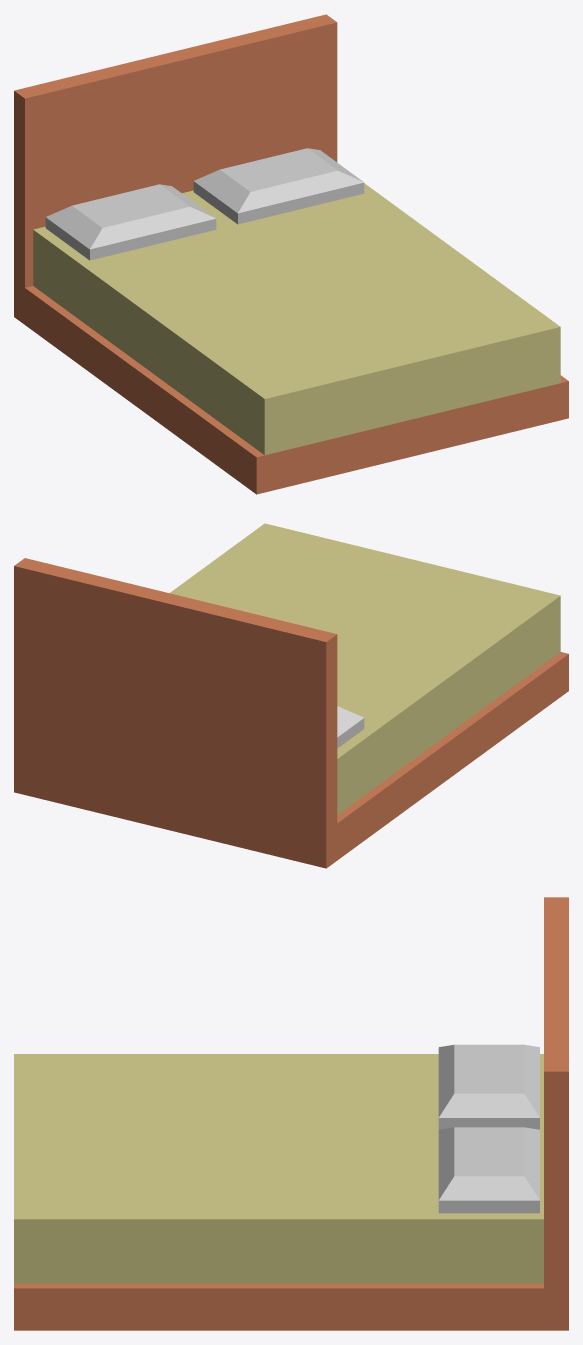
File: Bed2.fbx
3 views of the same model, one above another, from view 1: azimuth 30°, elevation 25°; view 2: azimuth 150°, elevation 25°; view 3: azimuth 270°, elevation 25° (orthographic). The views are drawn at different scales.
Visible parts, largest first — view 1: Cube; view 2: Cube; view 3: Cube.
Part boxes in pixels (x1,y1,x2,y2): Cube: (14,14,568,494); Cube: (14,523,568,868); Cube: (14,897,568,1330).
Size of the model in its own units: 2.4 by 1.66 by 3.23.
